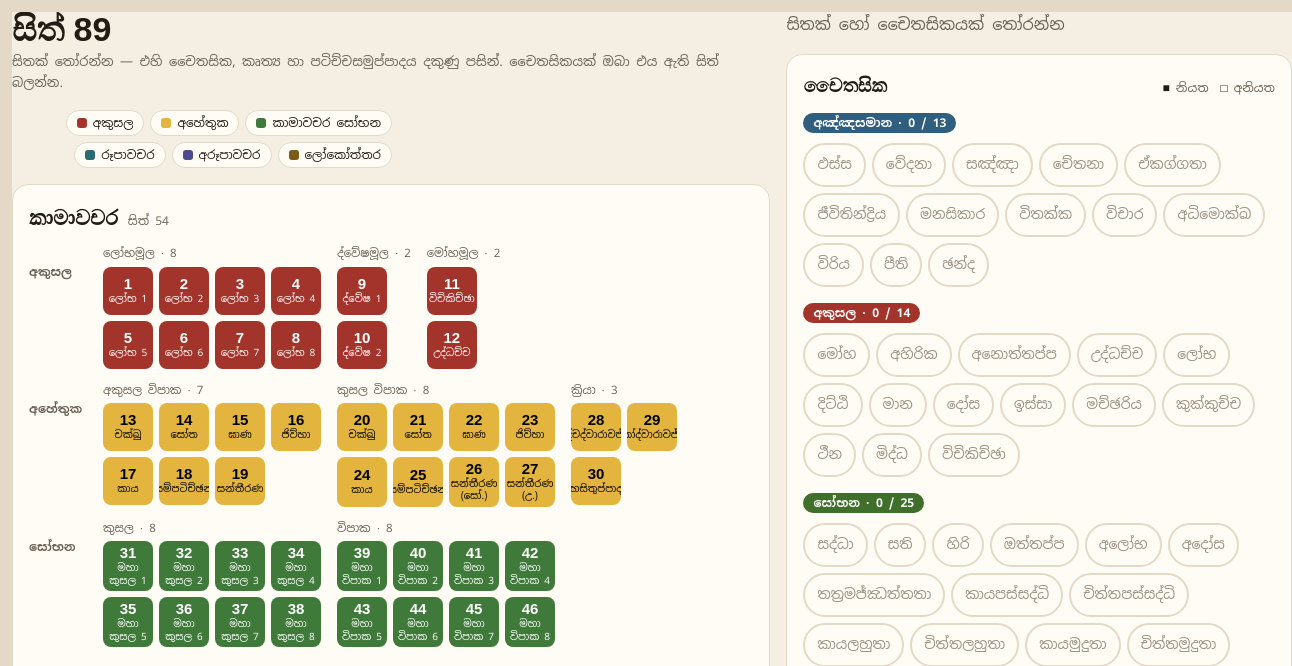
ExplorerView › shows a filter banner whose "ඉවත් කරන්න" button clears filters but keeps a selected citta
Click the button named "1. " at (128, 291), box [103,267,153,315]
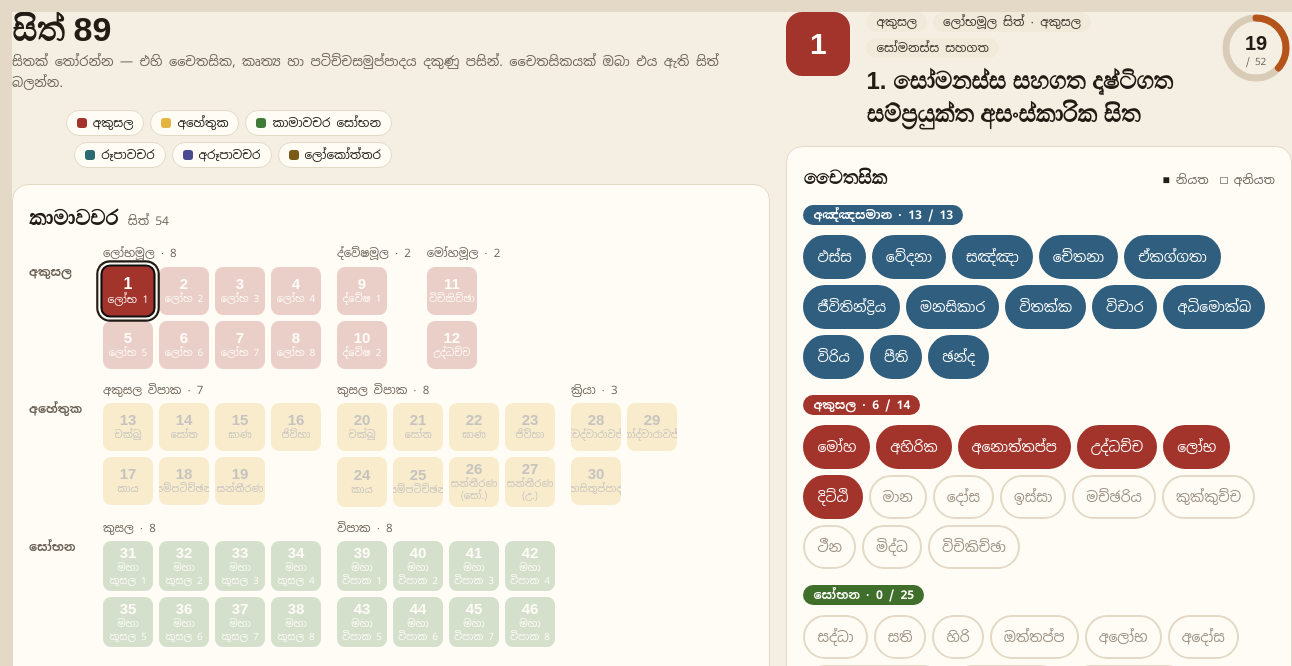
Type keys "{Shift>}"
Click the button "පීති" at (896, 357), box [870,335,922,379]
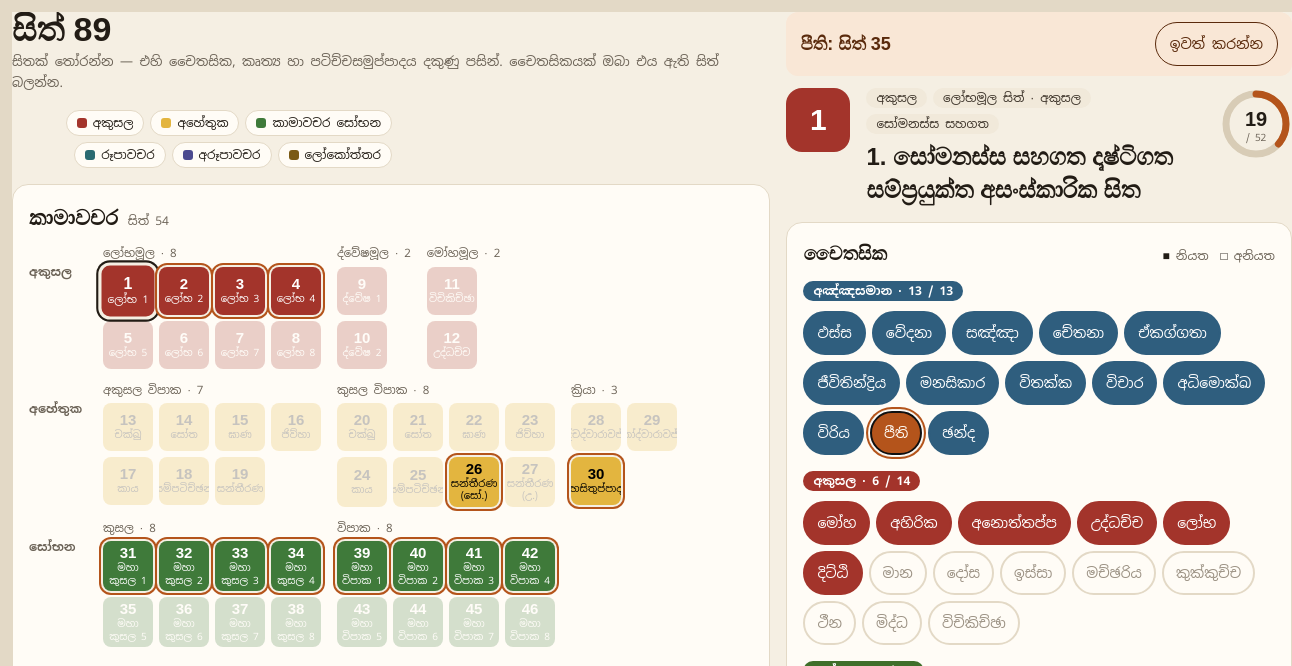
Type keys "{/Shift}"
Check: the text "පීති: සිත් 35" is shown, box [800,30,891,58]
Click the button "ඉවත් කරන්න" at (1216, 44), box [1155,22,1278,66]
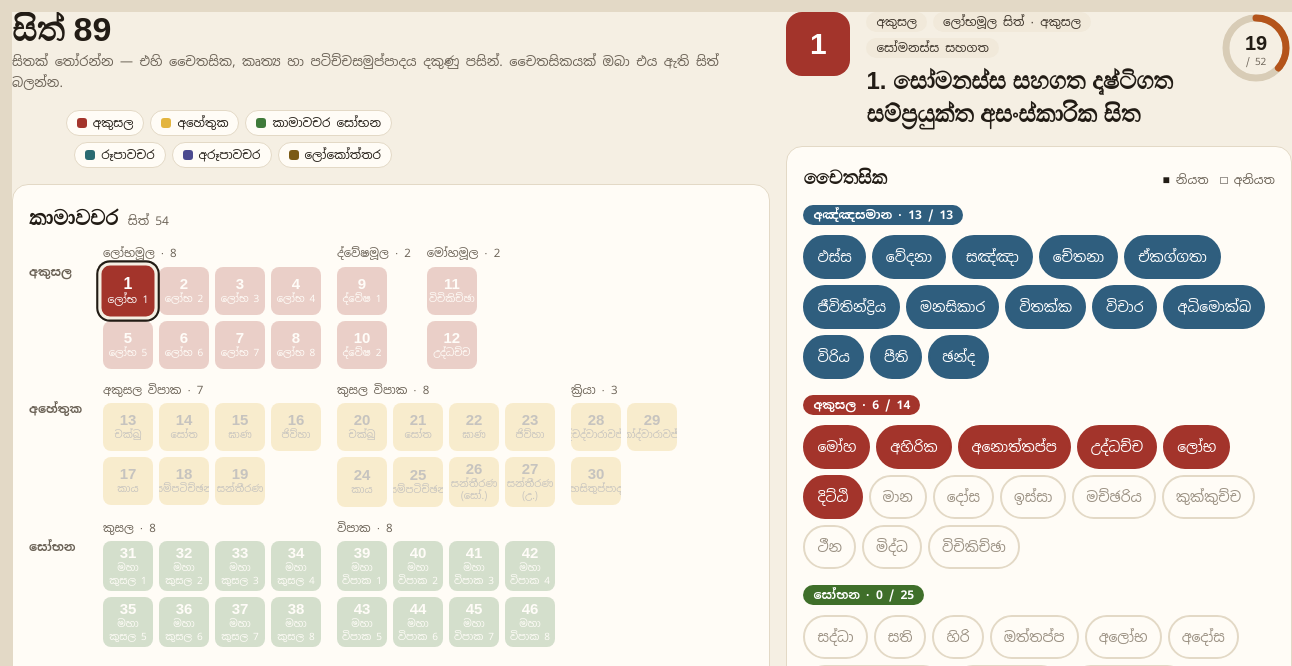
Check: the text "පීති: සිත් 35" is gone
